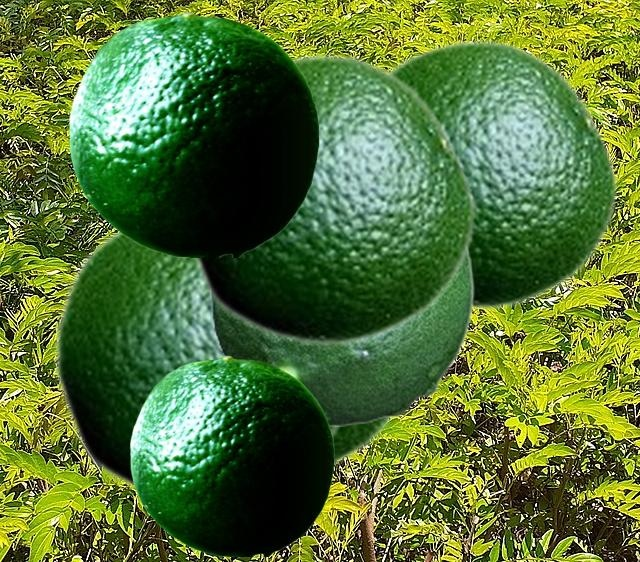calamansi: (189, 52, 476, 347), (52, 227, 344, 496), (387, 38, 618, 311), (69, 11, 318, 256), (210, 248, 473, 425), (130, 355, 333, 555), (334, 417, 399, 472)
